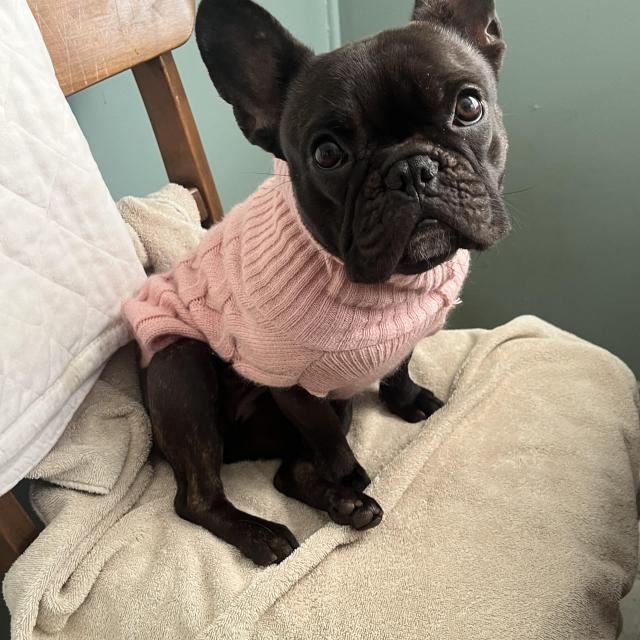french_bulldog_dog: (193, 0, 519, 294)
